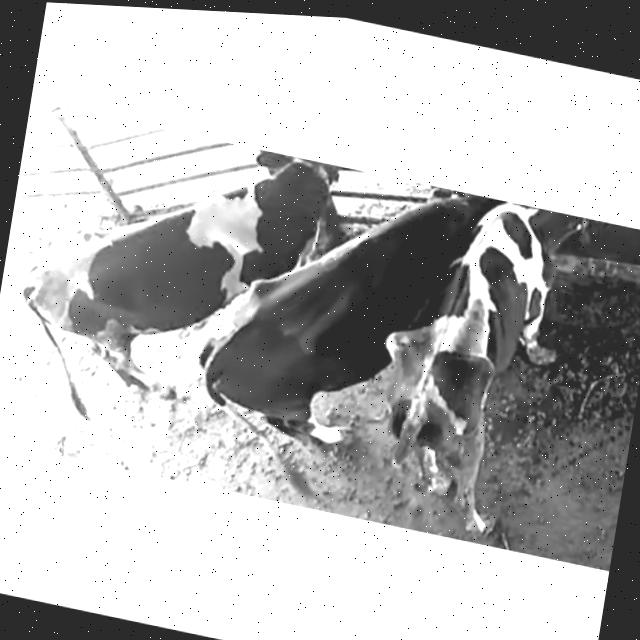drink: (500, 202, 630, 295), (416, 184, 524, 263)
